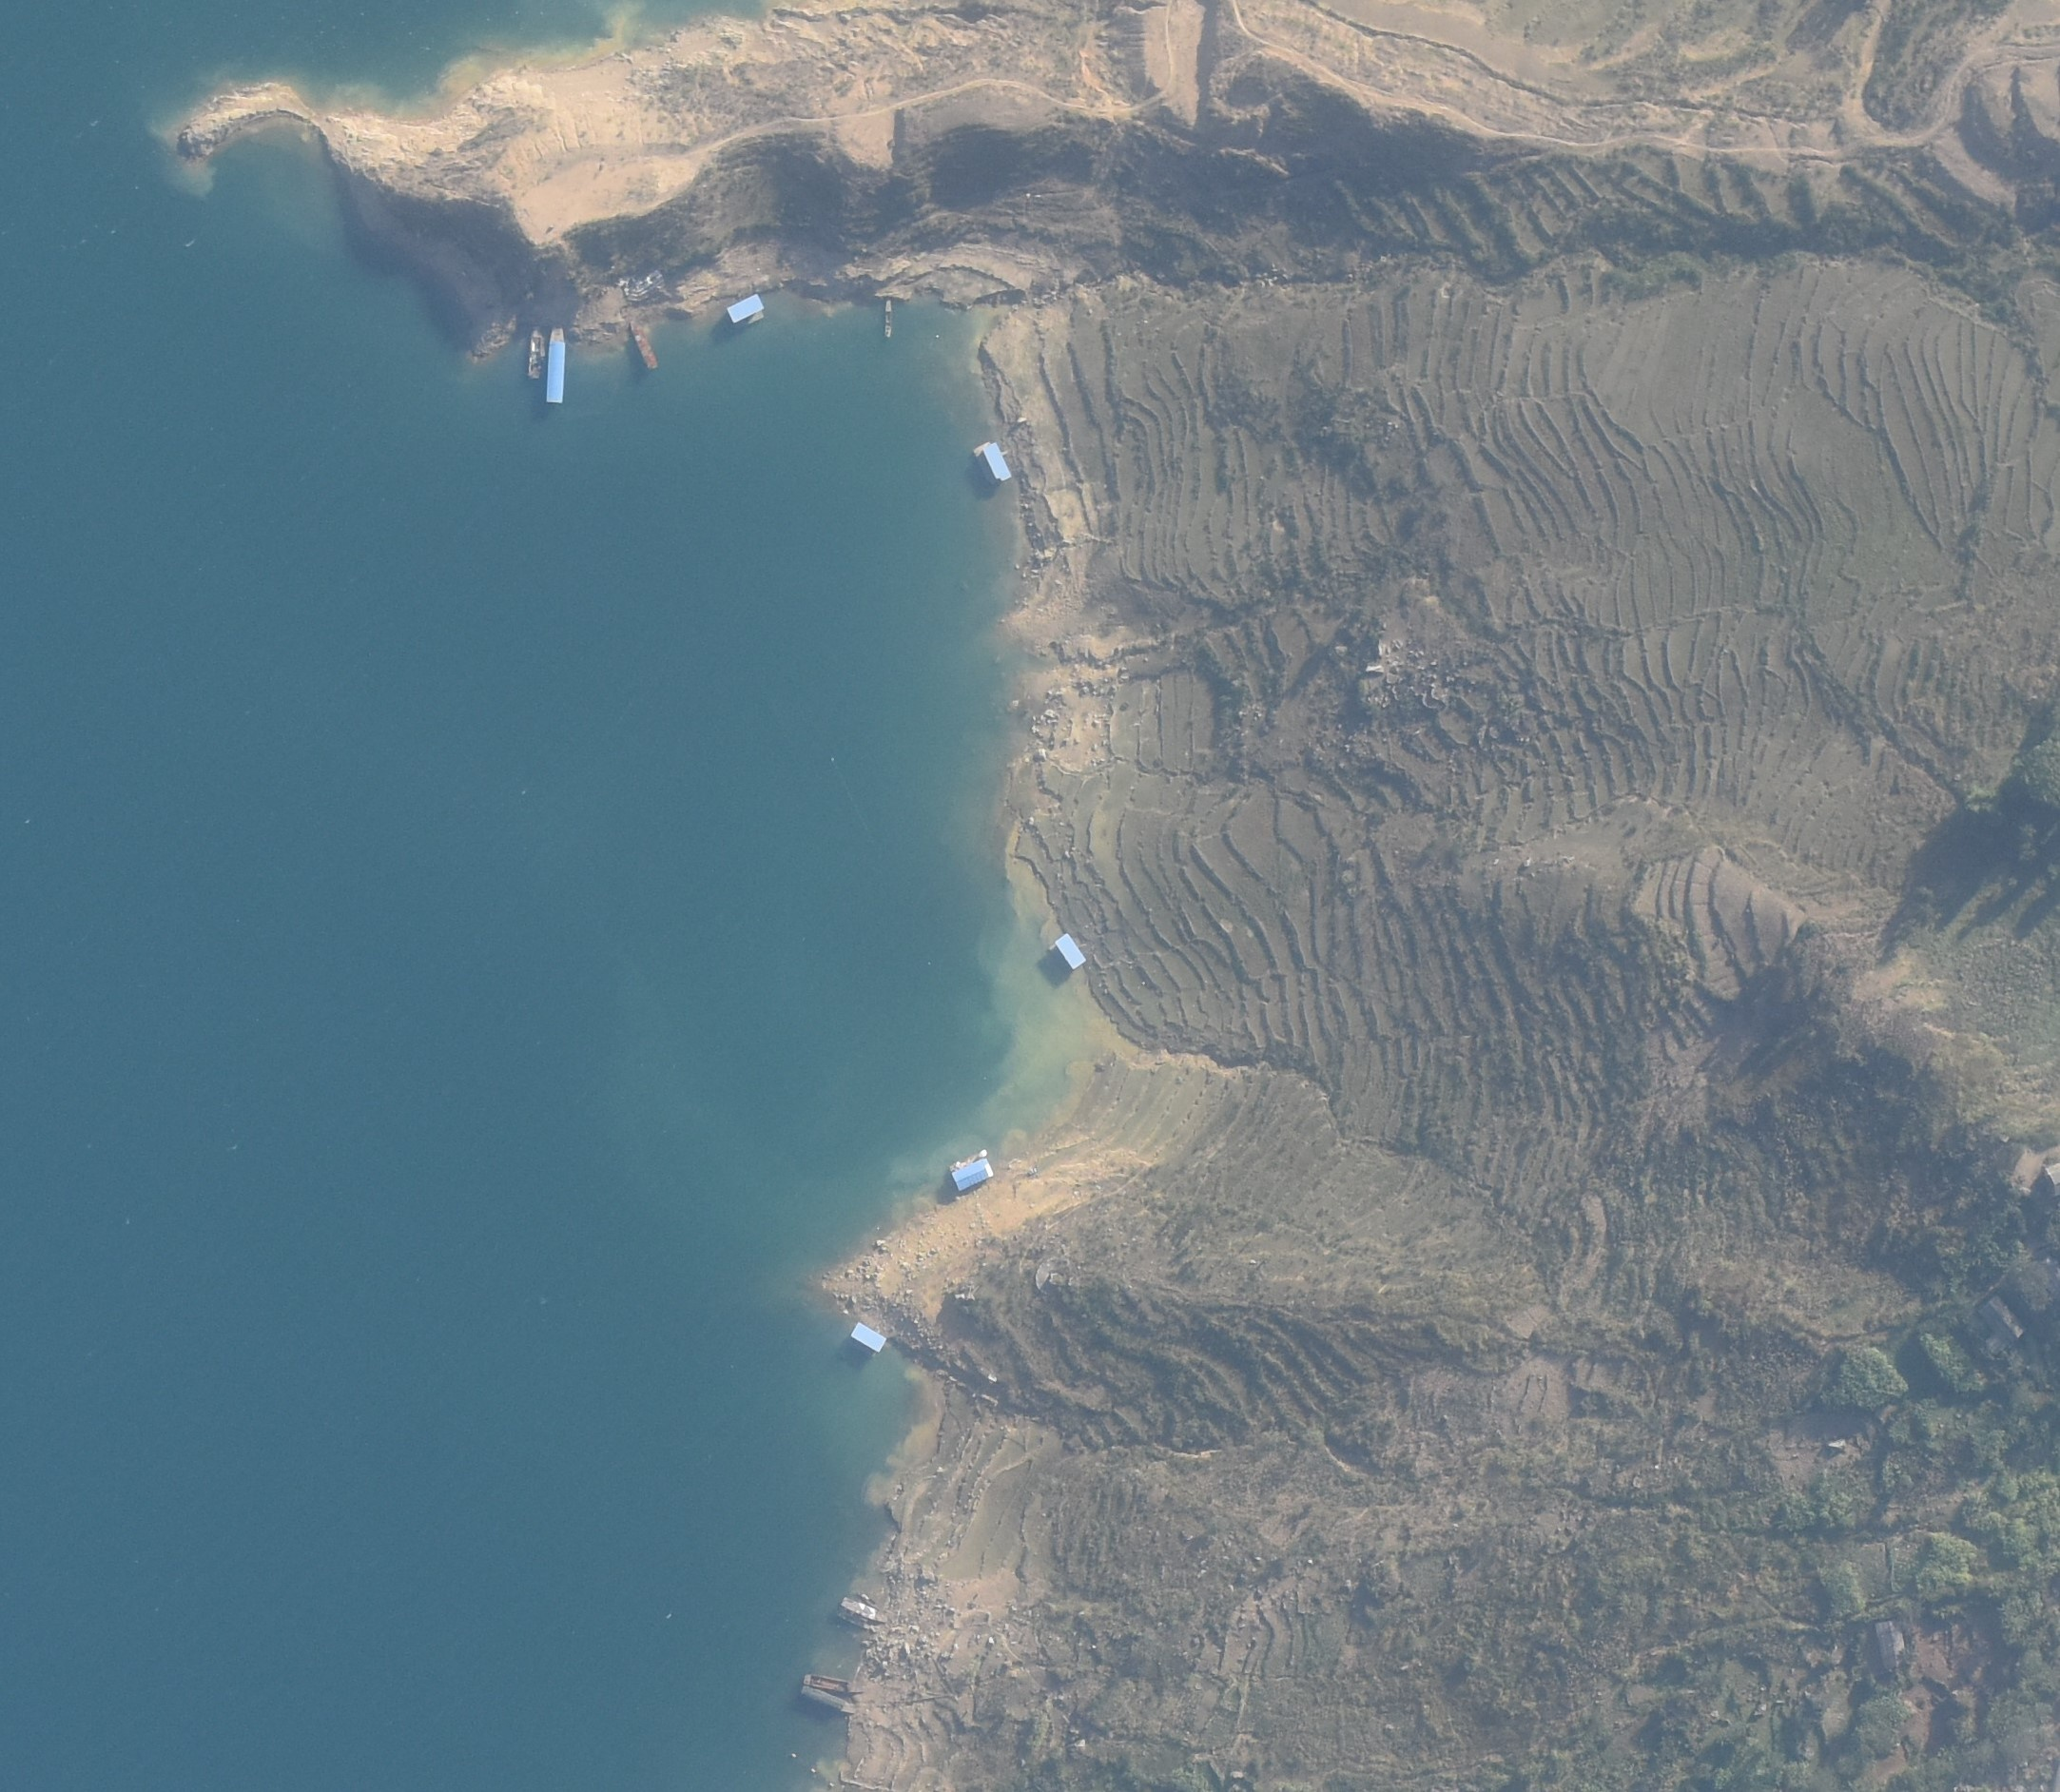prefabricated-house: (547, 329, 565, 403), (952, 1159, 994, 1189), (981, 441, 1011, 481), (1056, 933, 1086, 970), (727, 294, 765, 322), (850, 1322, 885, 1353)
ship: (801, 1684, 855, 1713), (629, 317, 659, 369), (841, 1595, 888, 1626), (804, 1672, 848, 1692), (529, 324, 545, 378), (885, 299, 894, 337)
